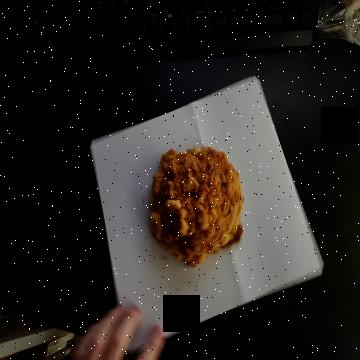soboru_bread: (148, 150, 246, 270)
